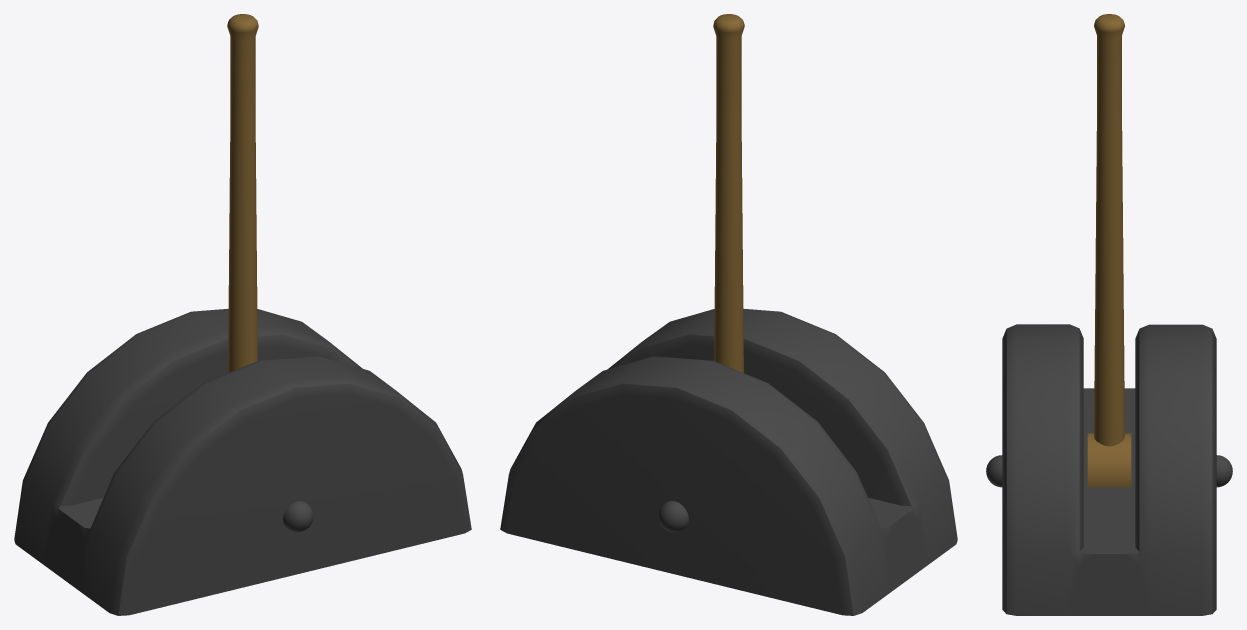
The model's file is Lever.fbx.
The picture shows the model from 3 angles, left to right: view 1: azimuth 30°, elevation 25°; view 2: azimuth 150°, elevation 25°; view 3: azimuth 270°, elevation 25°; orthographic projection.
Parts seen in each view (by area): view 1: Lever_Base, Lever_Handle; view 2: Lever_Base, Lever_Handle; view 3: Lever_Base, Lever_Handle.
Part boxes in pixels (x1,y1,x2,y2): Lever_Base: [14, 308, 471, 615]; Lever_Handle: [227, 14, 258, 372]; Lever_Base: [500, 308, 957, 615]; Lever_Handle: [713, 14, 744, 372]; Lever_Base: [986, 324, 1232, 615]; Lever_Handle: [1087, 14, 1131, 487].
Bounding box in the file's own units: 2 × 2.74 × 1.2.
